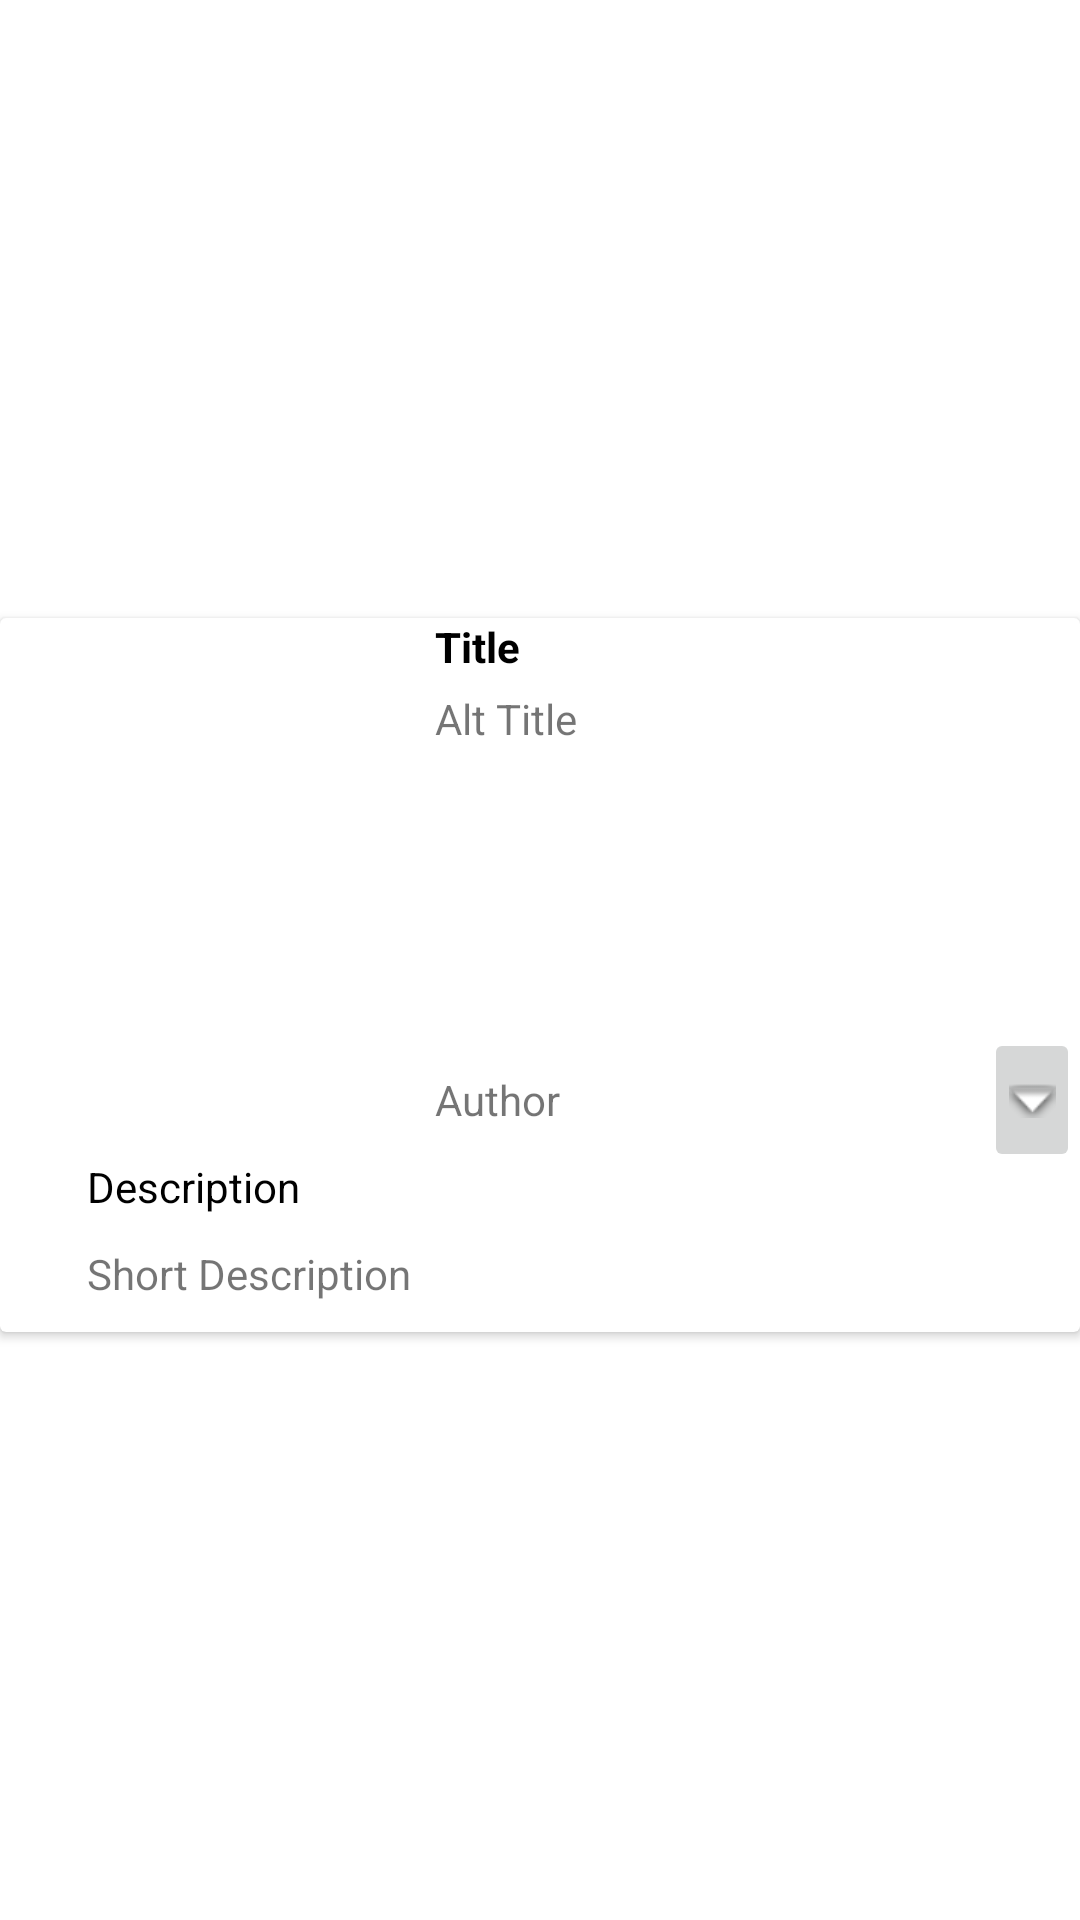

Icons on this 1080 x 1920 Android screen, each with its box as box=[x1, y1, x2, y2]:
arrow down float: box=[996, 1046, 1068, 1154]
